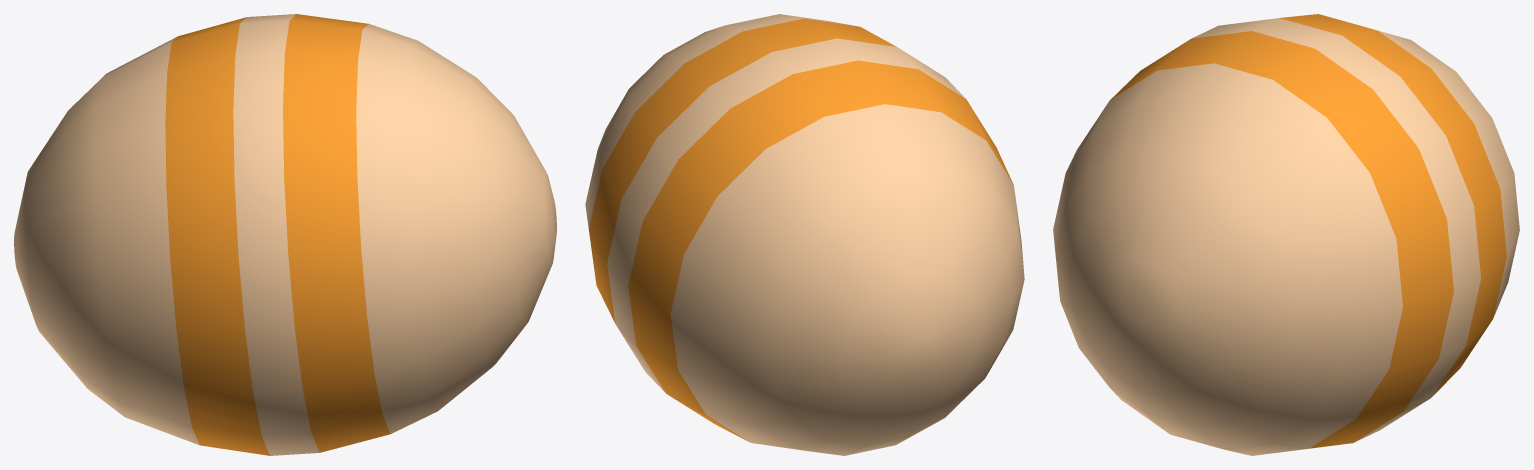
Rendered from ToyObject_044.fbx.
3 views of the same model, side by side, from view 1: azimuth 30°, elevation 25°; view 2: azimuth 150°, elevation 25°; view 3: azimuth 270°, elevation 25° (orthographic). The views are drawn at different scales.
Visible parts, largest first — view 1: 1.034; view 2: 1.034; view 3: 1.034.
Boxes of the visible parts, x1,y1,x2,y2 form: 1.034: (14,14,556,455); 1.034: (585,14,1024,455); 1.034: (1053,14,1519,455).
Size of the model in its own units: 0.1898 by 0.1633 by 0.1763.
